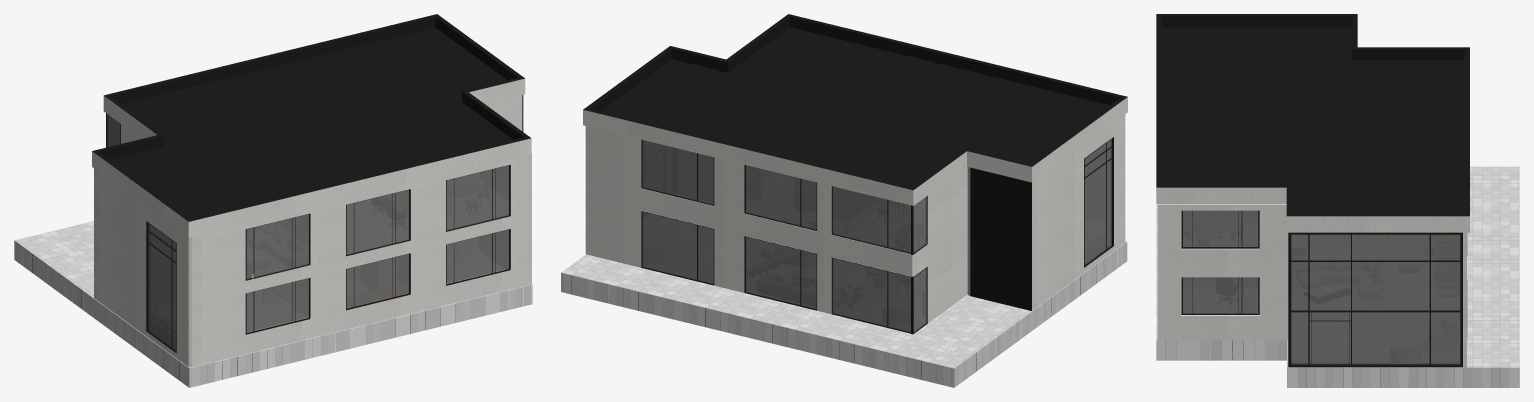
Rendered from free_loft_18_mini_office_v.optimization.glb.
The picture shows the model from 3 angles, left to right: view 1: azimuth 30°, elevation 25°; view 2: azimuth 150°, elevation 25°; view 3: azimuth 270°, elevation 25°; orthographic projection. The views are drawn at different scales.
Visible parts, largest first — view 1: Plane.017, Plane.016, Plane.020, Plane, Plane.023, Cube.003, Cube.002, Plane.014, Plane.015; view 2: Plane.017, Plane.016, Plane.021, Plane, Plane.023, Plane.001, Plane.015, Plane.005, Plane.003; view 3: Plane.017, Plane.022, Plane, Plane.014, Plane.040, Plane.018, Plane.016, Cube.029, Cube.028.
Boxes of the visible parts, box(x1,y1,x2,y2) form: Plane.017: box(92, 14, 531, 237); Plane.016: box(94, 124, 528, 367); Plane.020: box(246, 165, 510, 332); Plane: box(14, 221, 532, 387); Plane.023: box(148, 223, 175, 350); Cube.003: box(245, 164, 510, 280); Cube.002: box(245, 229, 510, 334); Plane.014: box(485, 95, 531, 284); Plane.015: box(146, 221, 176, 352); Plane.017: box(583, 14, 1127, 205); Plane.016: box(585, 114, 1125, 323); Plane.021: box(642, 140, 926, 332); Plane: box(561, 241, 1127, 387); Plane.023: box(1084, 139, 1111, 264); Plane.001: box(641, 140, 910, 313); Plane.015: box(1084, 137, 1113, 267); Plane.005: box(744, 236, 817, 310); Plane.003: box(641, 211, 714, 285); Plane.017: box(1156, 14, 1469, 232); Plane.022: box(1291, 234, 1460, 364); Plane: box(1156, 166, 1519, 387); Plane.014: box(1157, 204, 1288, 366); Plane.040: box(1183, 210, 1258, 313); Plane.018: box(1288, 232, 1462, 367); Plane.016: box(1463, 232, 1466, 367); Cube.029: box(1181, 210, 1259, 248); Cube.028: box(1181, 277, 1259, 314).
Bounding box in the file's own units: 15.43 × 6.13 × 11.7.
Materials: 19 (16 with a texture image).
